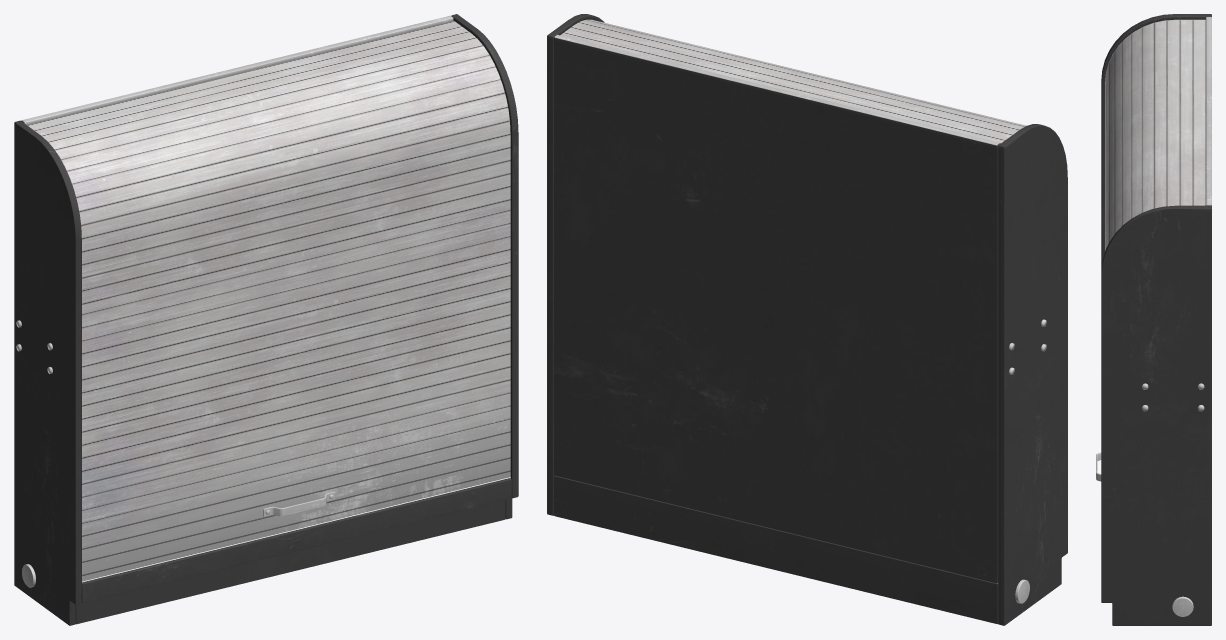
The model's file is SM_Gun_Display_01c.glb.
3 renders of one model, left to right at view 1: azimuth 30°, elevation 25°; view 2: azimuth 150°, elevation 25°; view 3: azimuth 270°, elevation 25°, orthographic. The views are drawn at different scales.
Parts seen in each view (by area): view 1: SM_Gun_Display_01c; view 2: SM_Gun_Display_01c; view 3: SM_Gun_Display_01c.
Part boxes in pixels (x1,y1,x2,y2): SM_Gun_Display_01c: (14, 14, 518, 625); SM_Gun_Display_01c: (547, 14, 1067, 625); SM_Gun_Display_01c: (1096, 14, 1211, 625).
Size of the model in its own units: 2.53 by 2.5 by 0.6286.
1 material, 1 textured.
